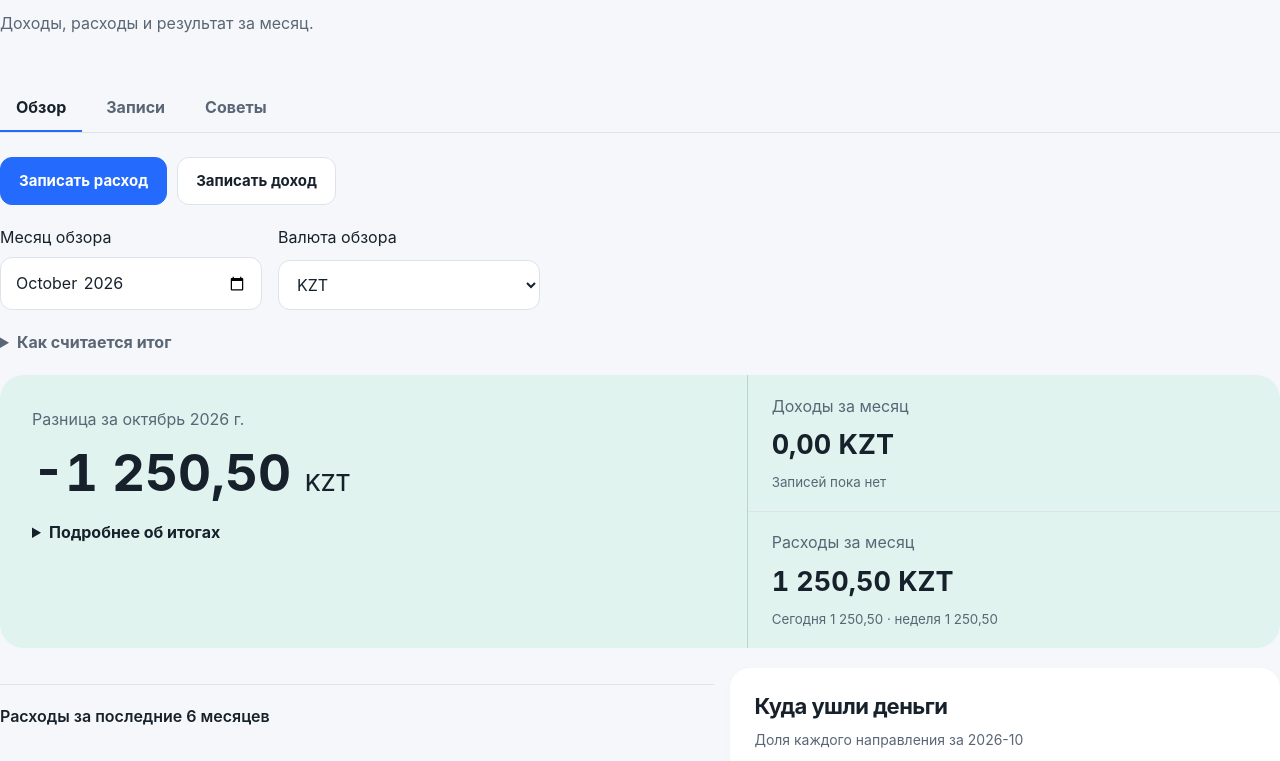
Test: expense editing and reversible deletion refresh visible history and totals
This screenshot has width=1280, height=761.
Click the button "Записи" at [136, 108], box [90, 85, 181, 132]
(page scrolled)
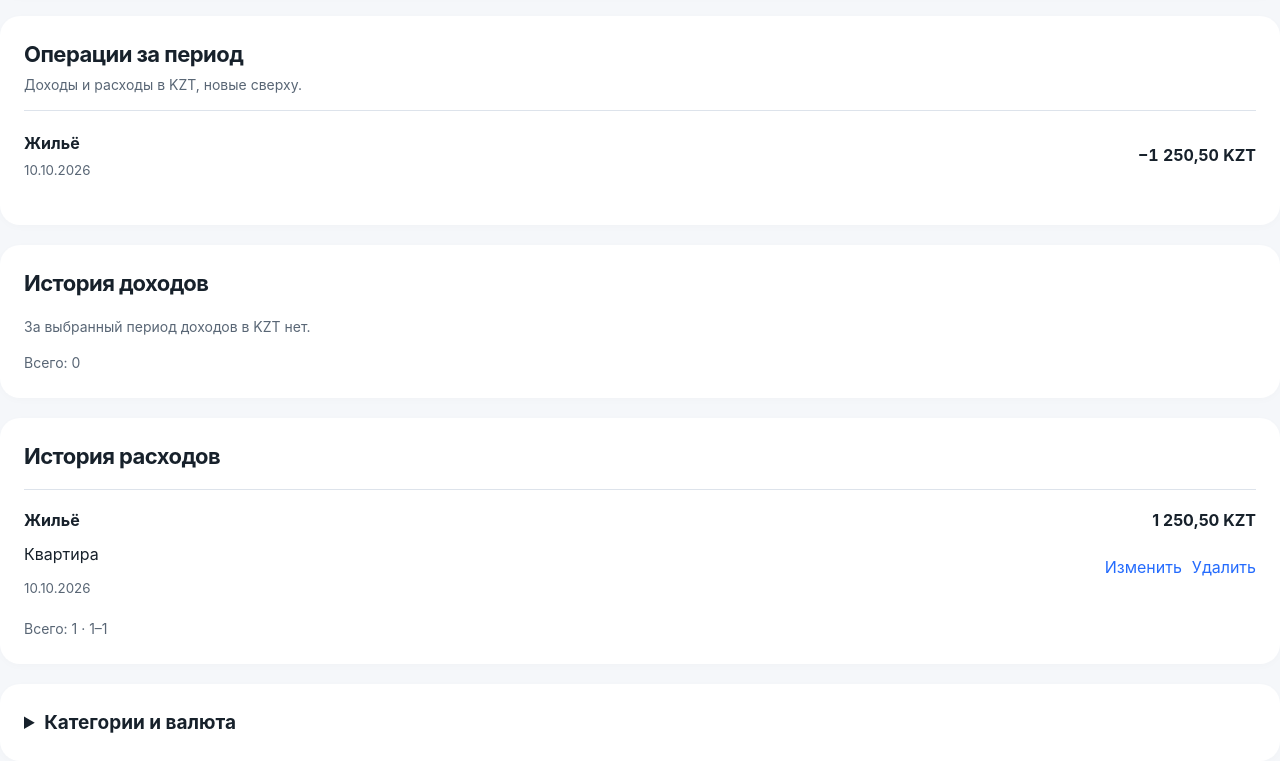
Click the button with aria-label "Изменить расход Квартира" at [1143, 567], box [1105, 545, 1182, 589]
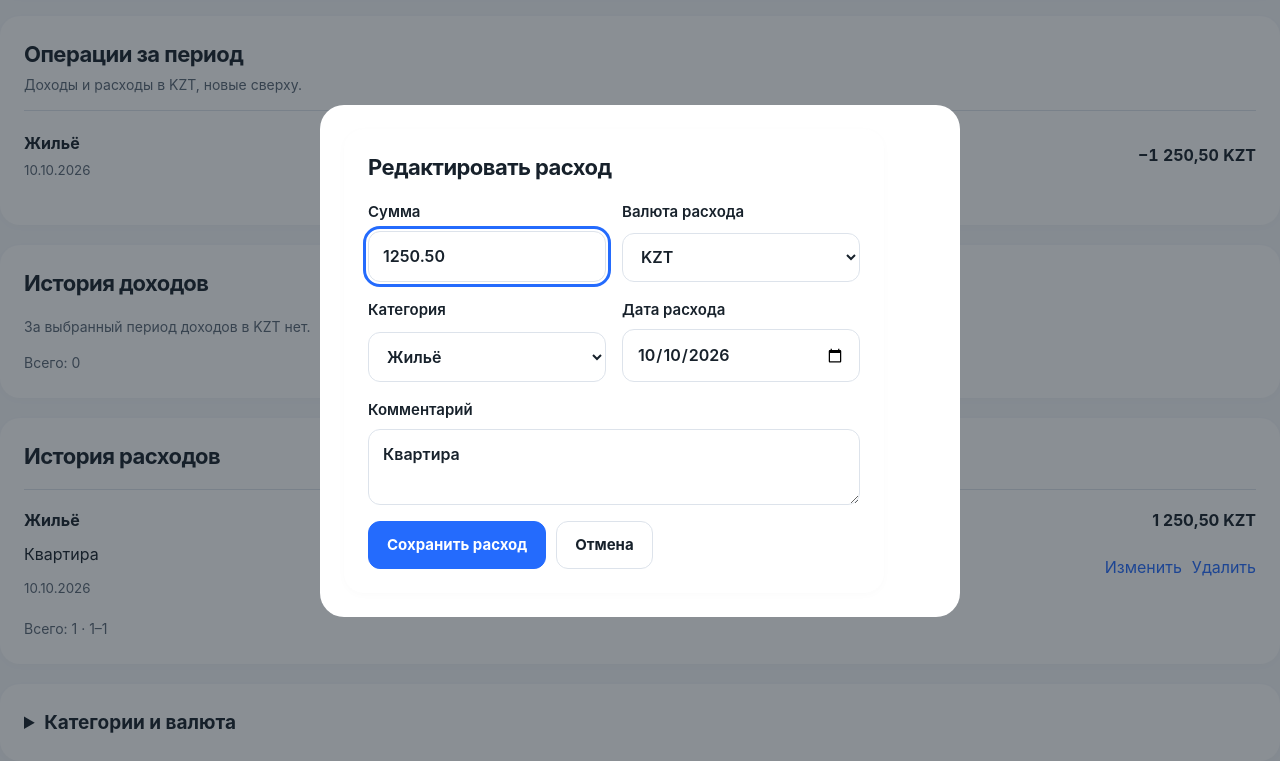
Replace the text in the field labelled "Сумма" with "1500" at [487, 257], box [368, 231, 606, 282]
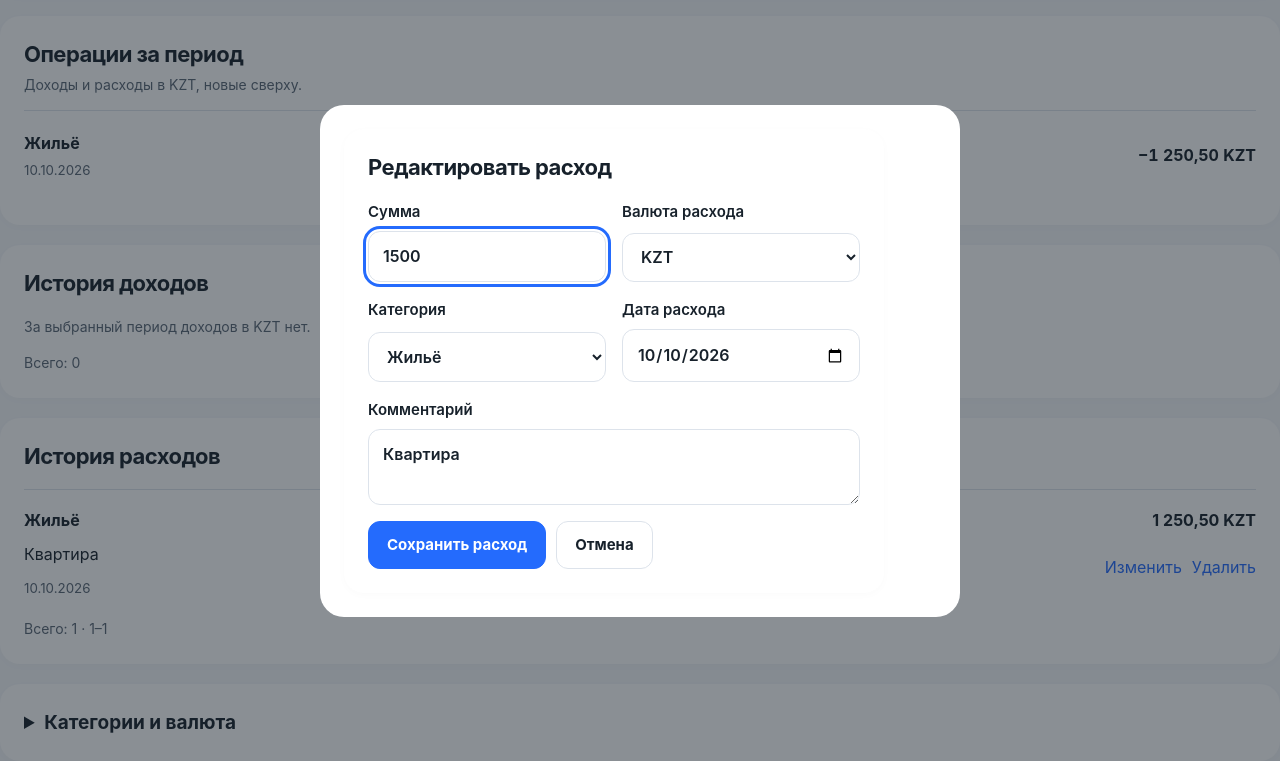
Click the button "Сохранить расход" at [457, 545], box [368, 521, 546, 569]
(page scrolled)
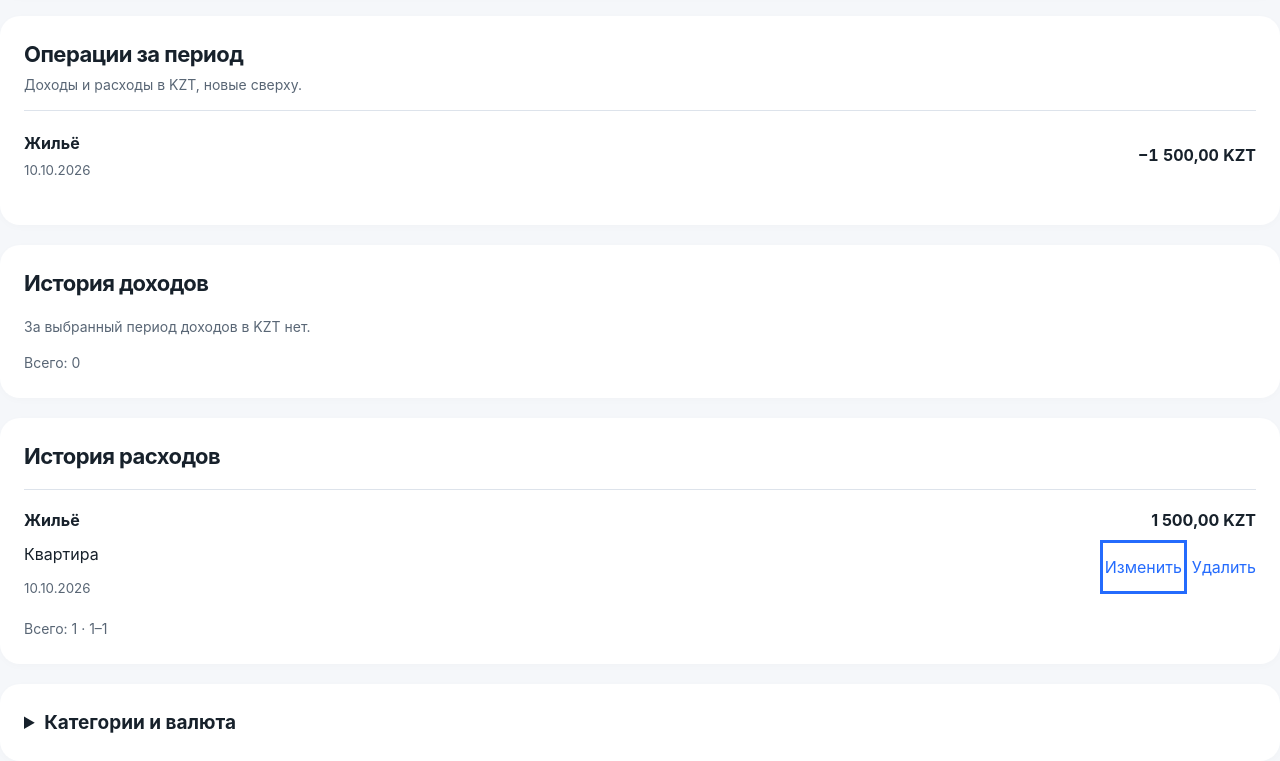
Now the dialog is gone
Click the button with aria-label "Удалить расход Квартира" at [1224, 567], box [1192, 545, 1256, 589]
(page scrolled)
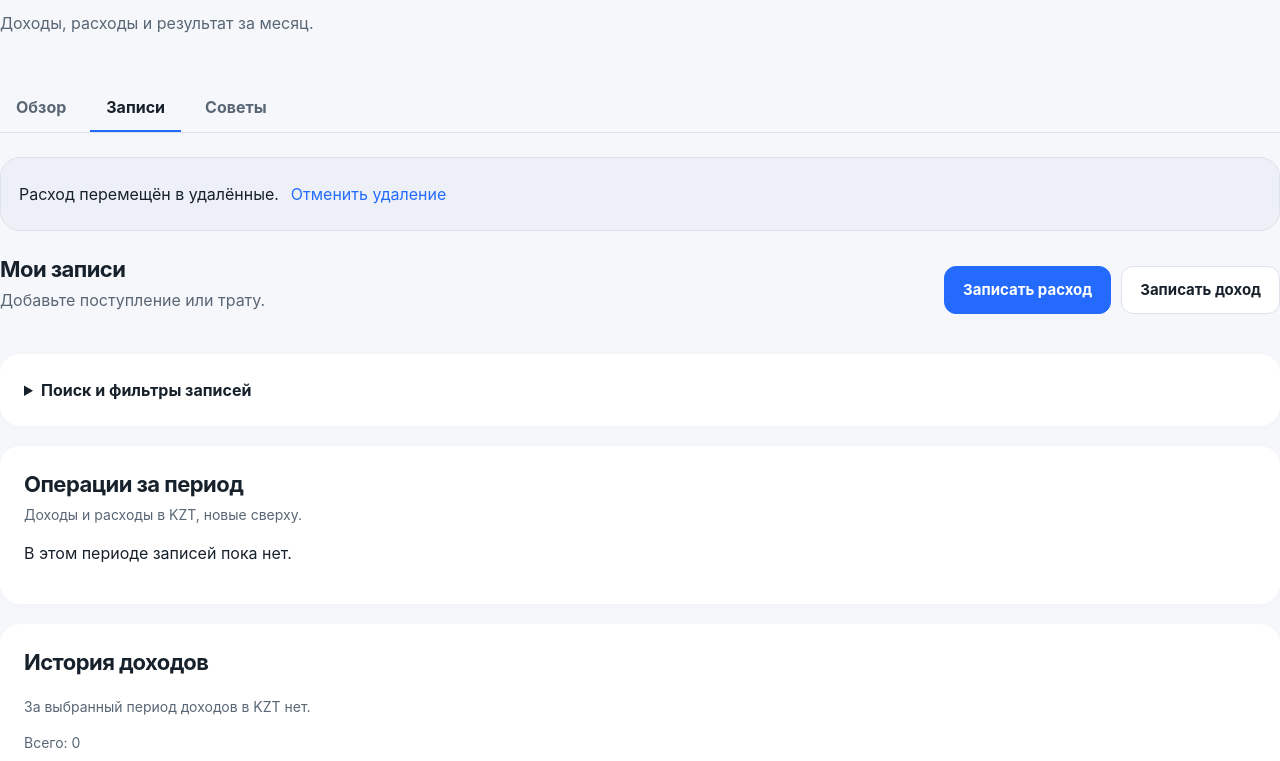
Now the text "Расход перемещён в удалённые." is shown, box [19, 182, 279, 206]
Now the text "Квартира" is gone
Click the button "Отменить удаление" at [369, 194], box [291, 172, 446, 216]
(page scrolled)
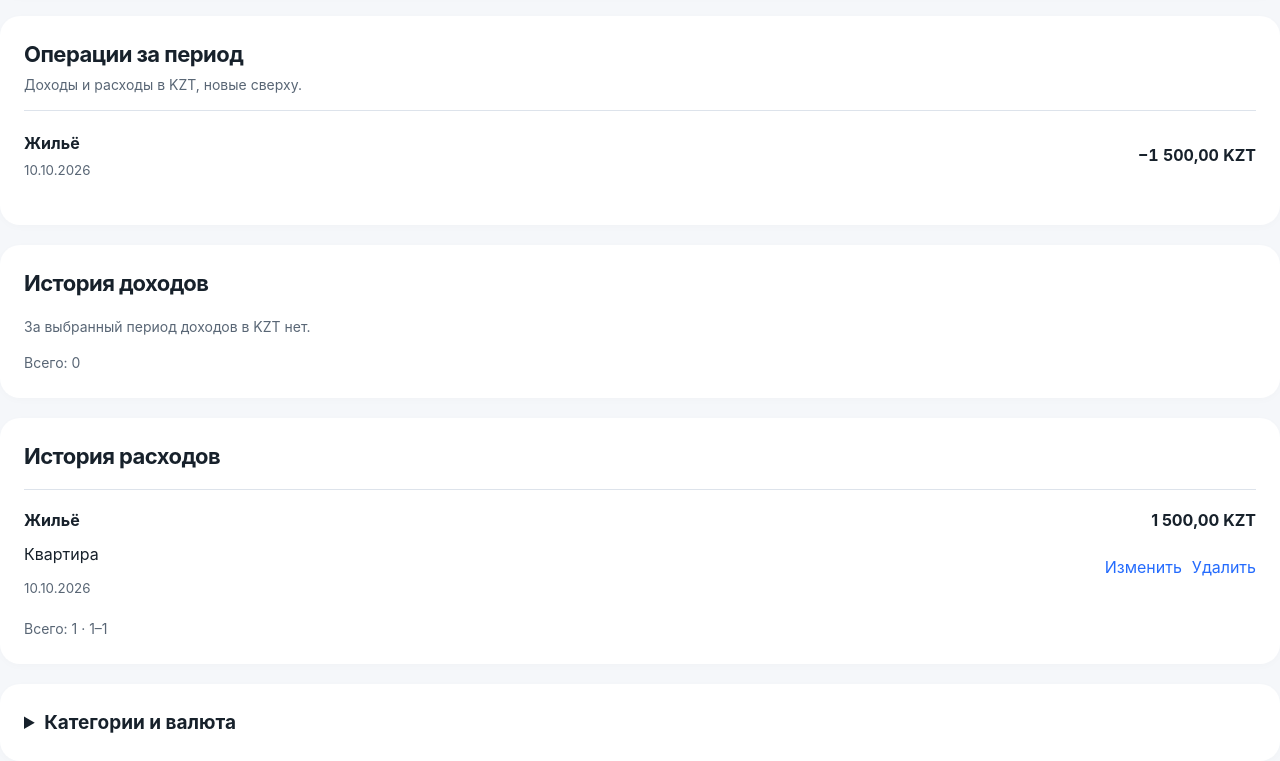
Now the text "Квартира" is shown, box [24, 541, 99, 567]
